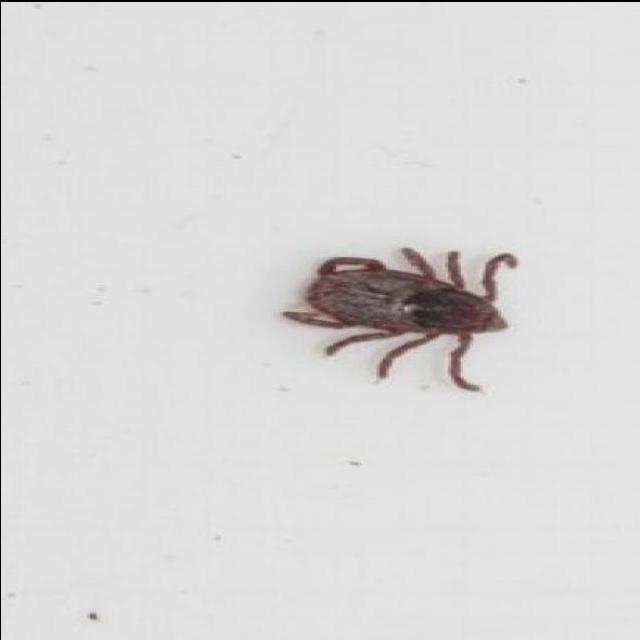Rhipicephalus Sanguineus-F: (279, 245, 516, 390)
